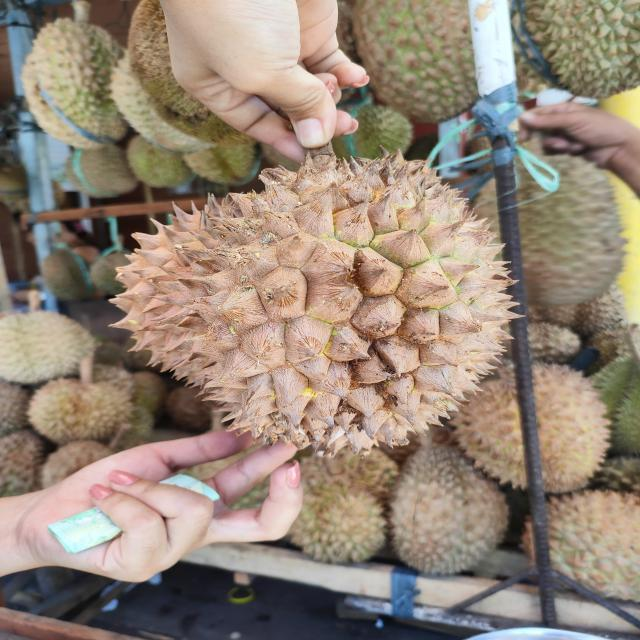mature: (106, 152, 521, 451)
